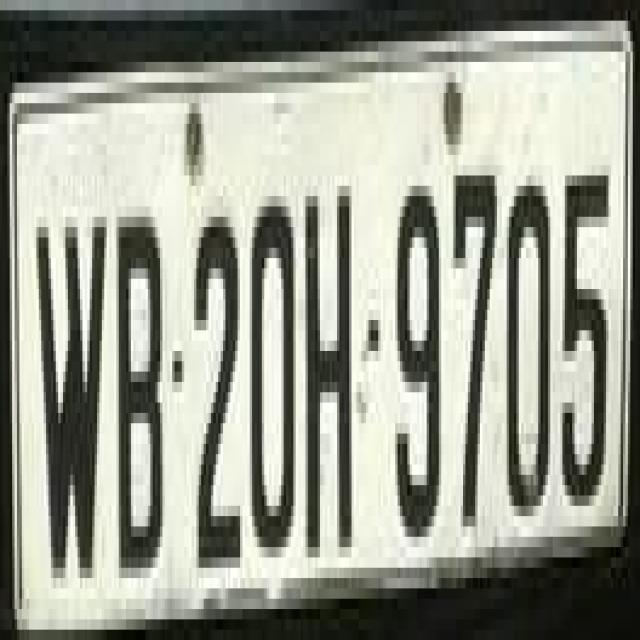license_plate: (2, 20, 610, 640)
